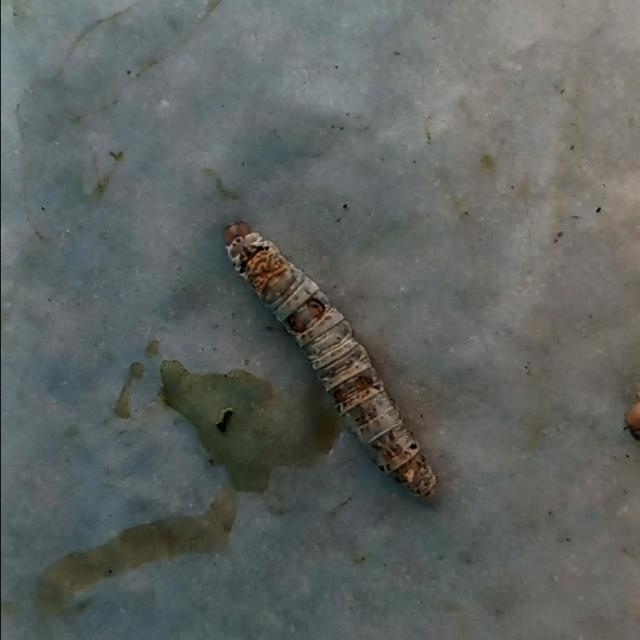Grasserie: (210, 170, 472, 512)
